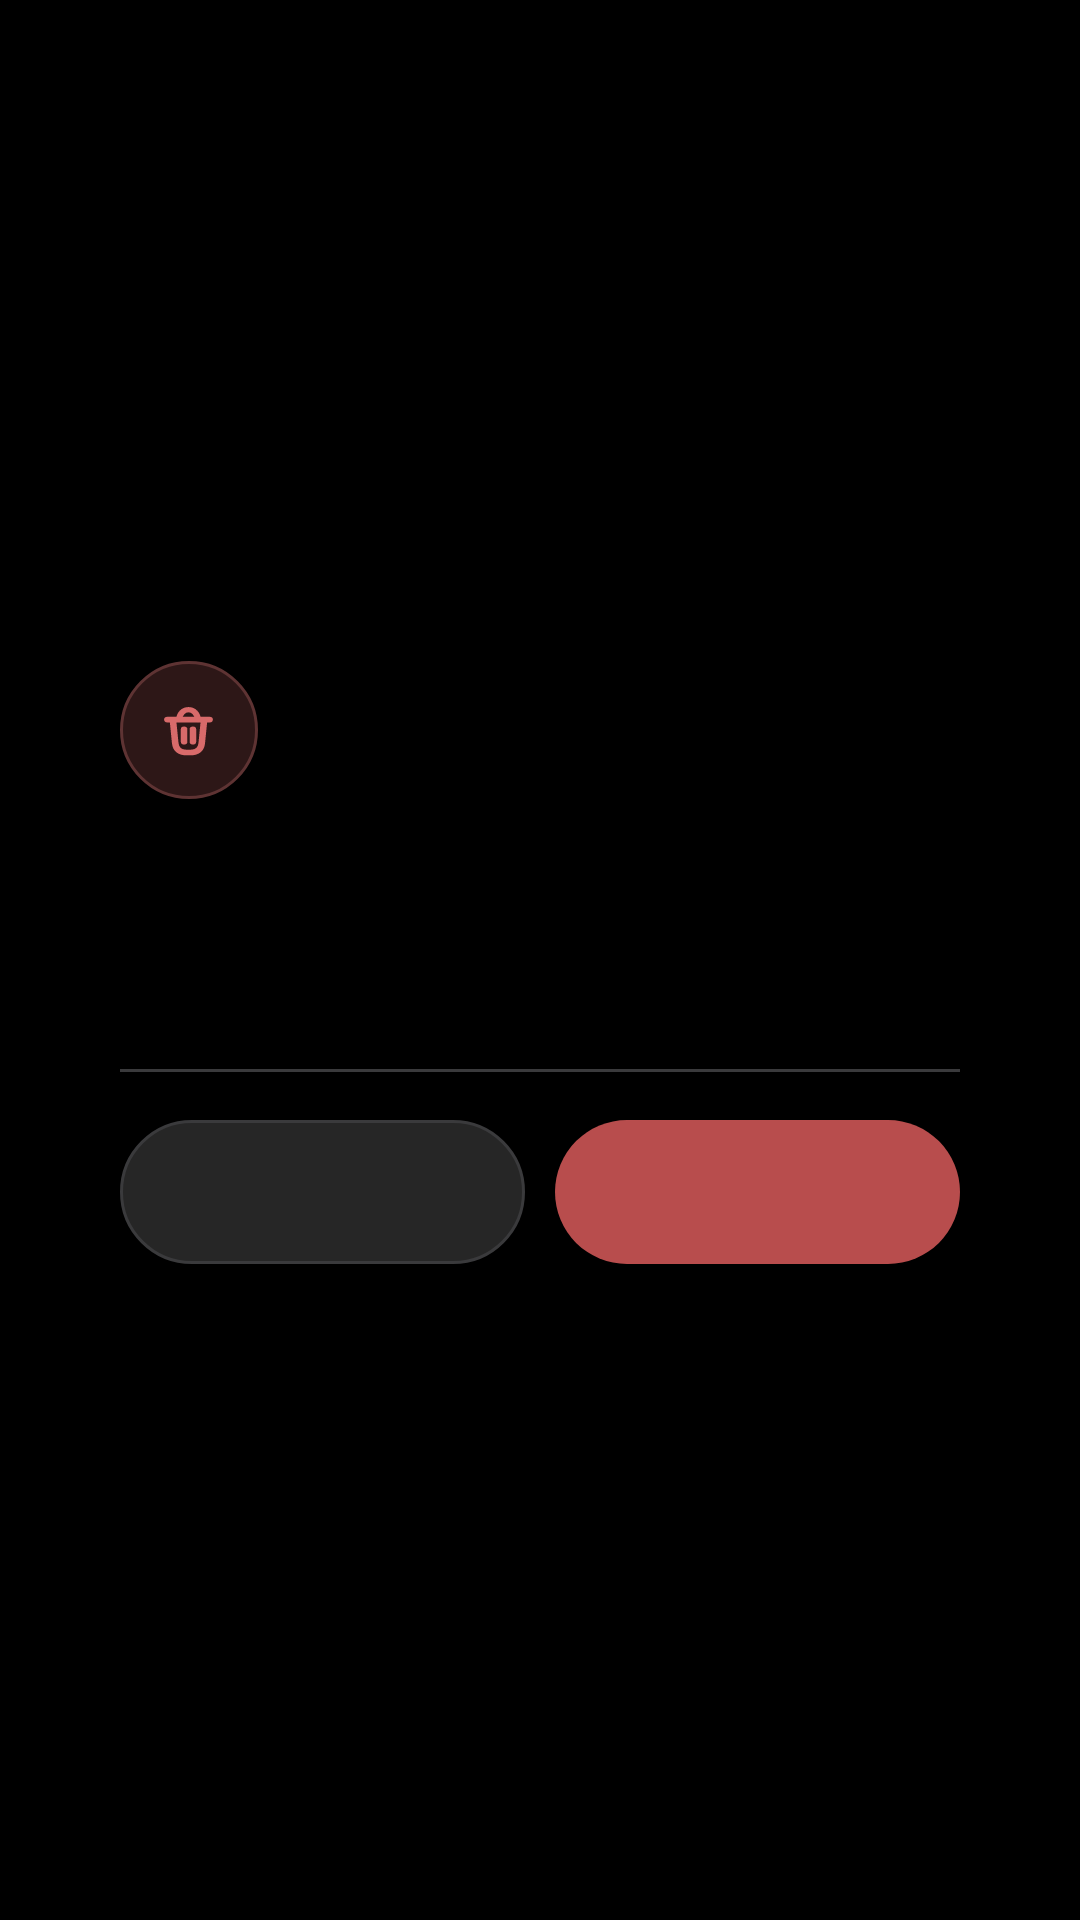

Where icons sit on this 1080w x 1920h app screen, as (x1, y1, x2, y2):
delete: (164, 707, 213, 756)
